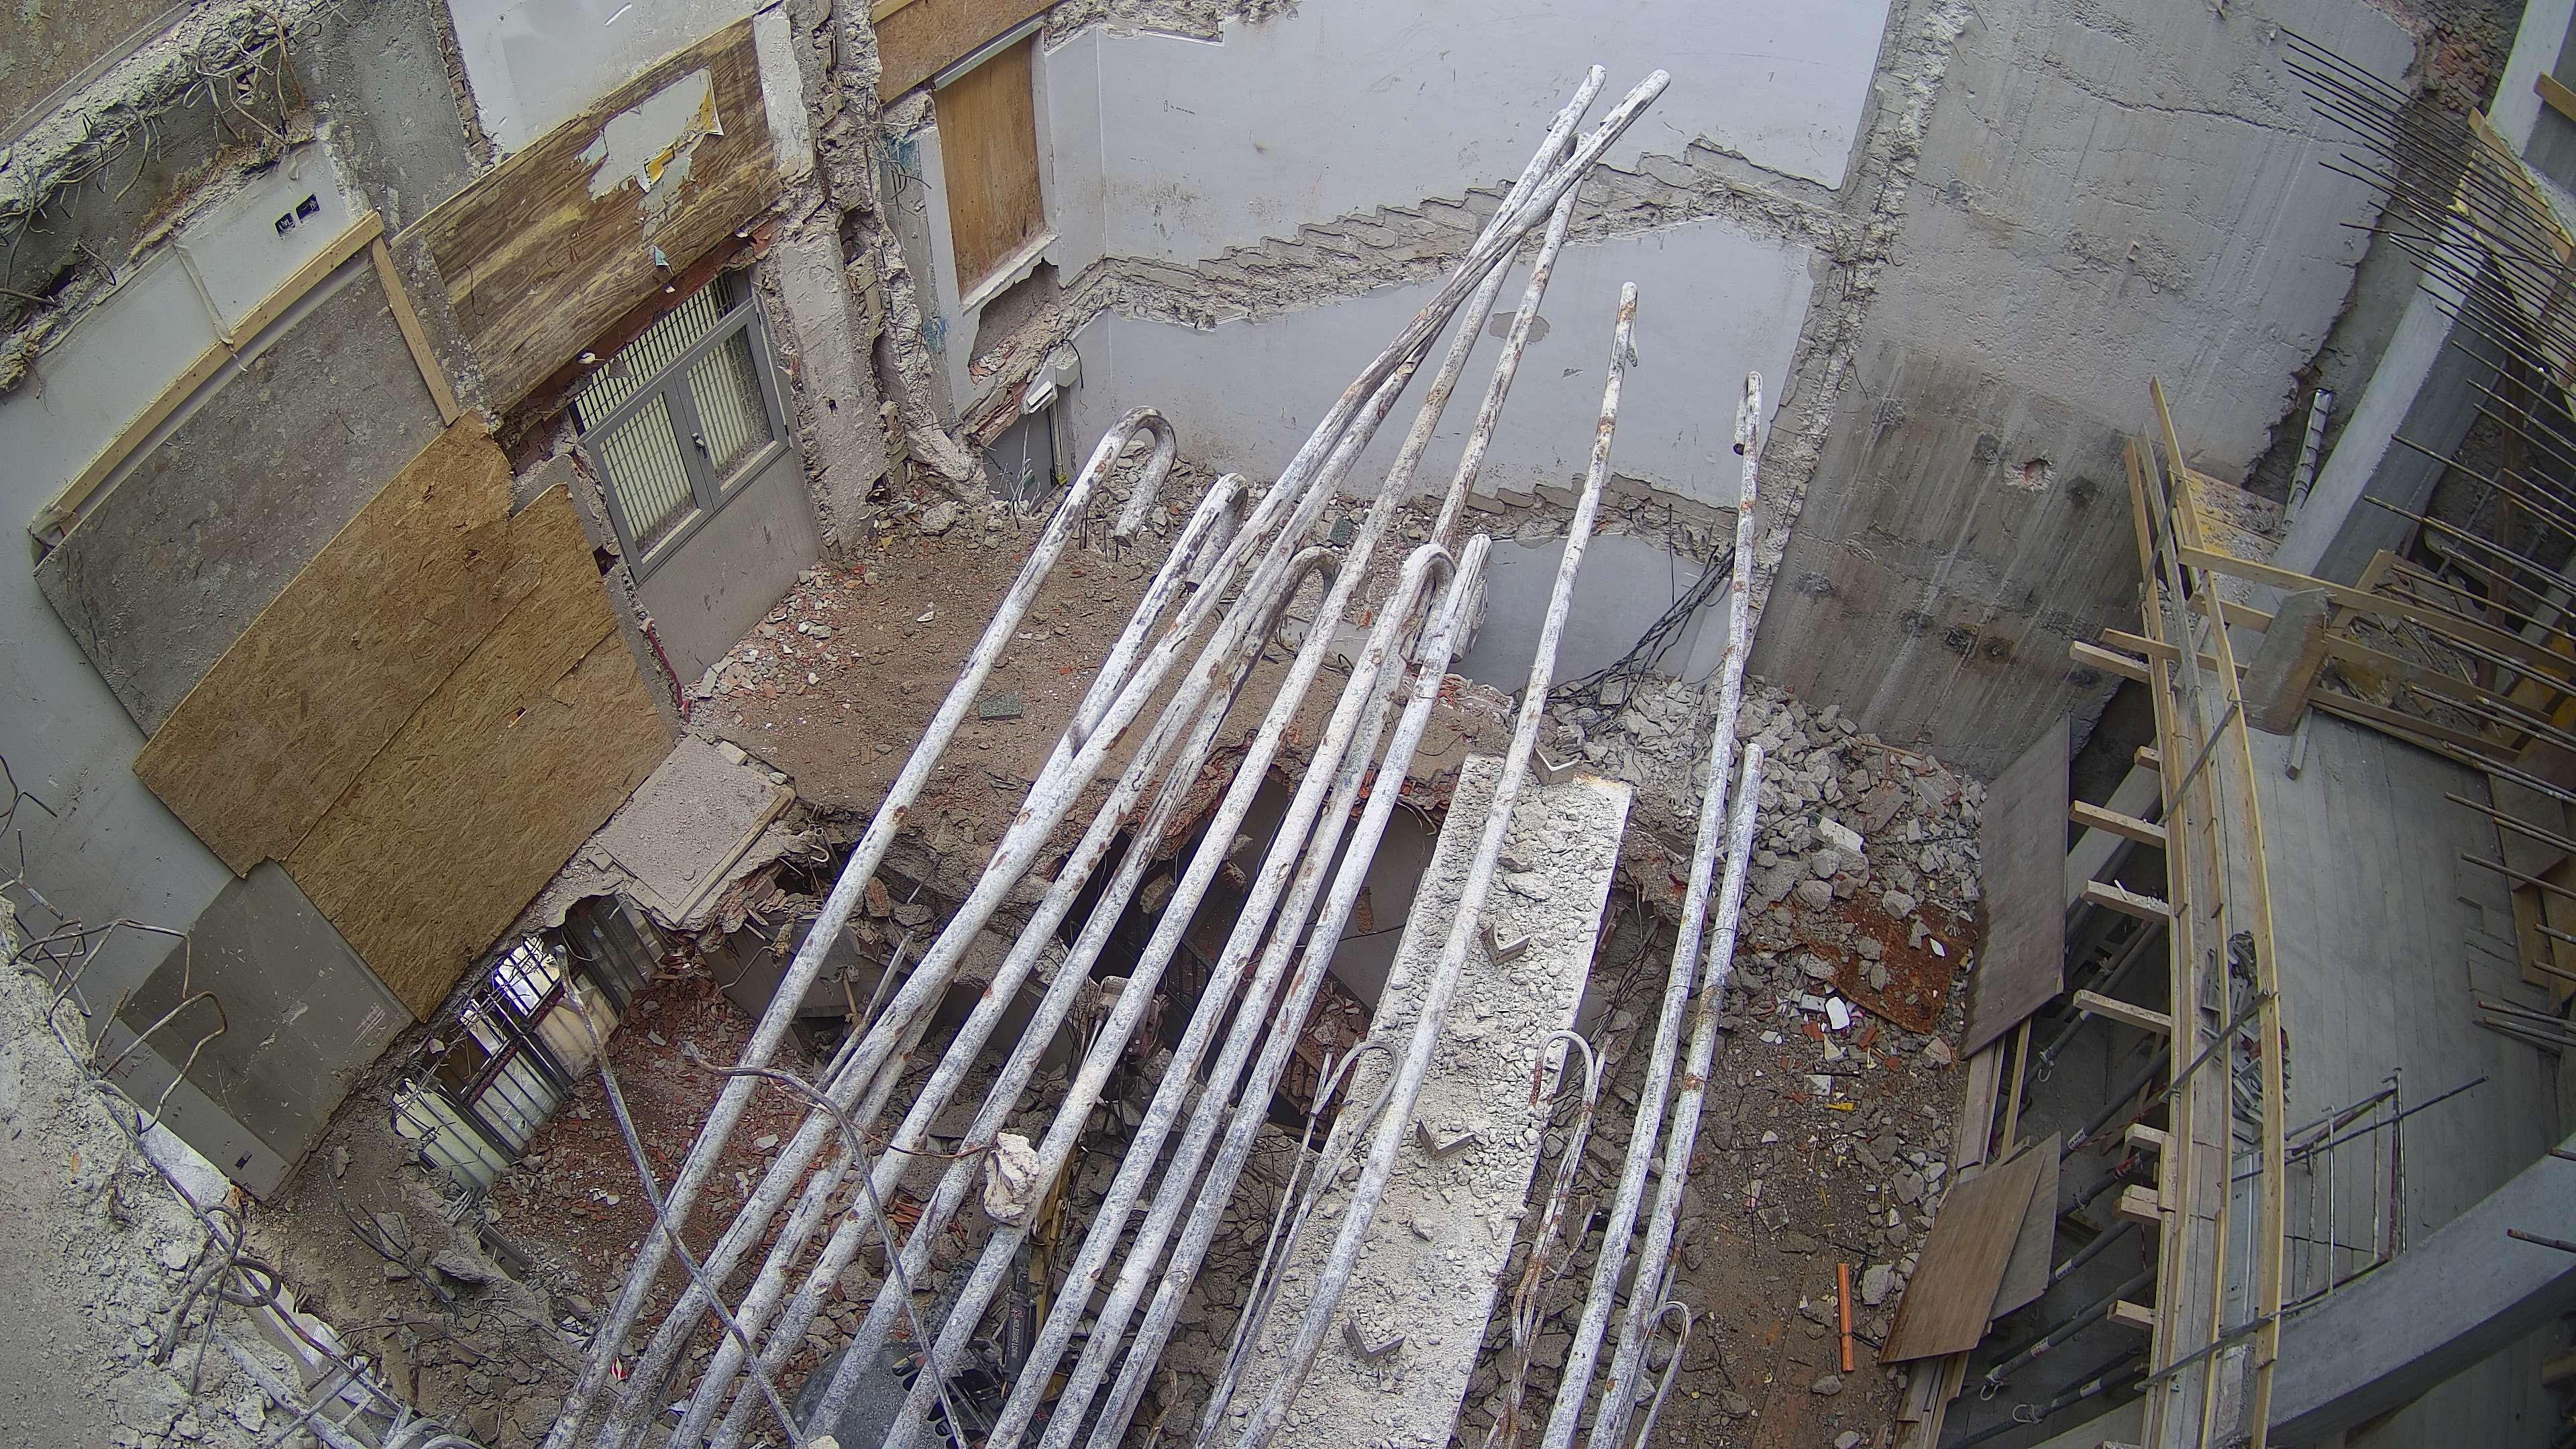excavator: (786, 973, 1166, 1449)
